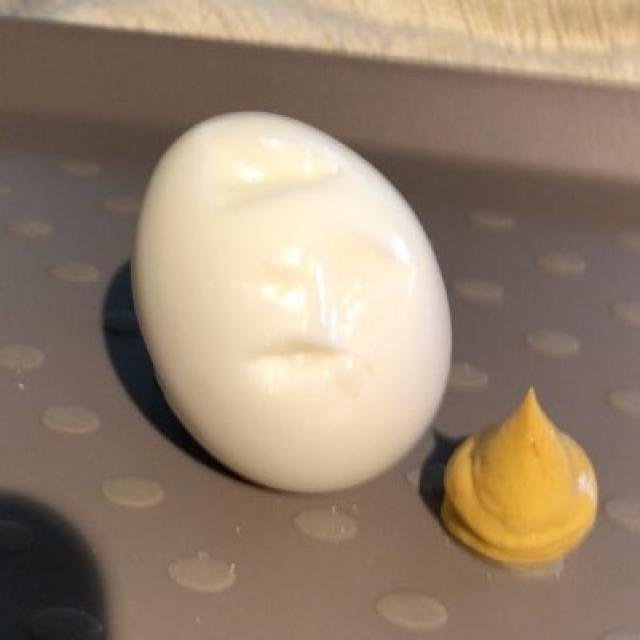egg: (136, 119, 449, 486)
mustard: (430, 391, 596, 566)
